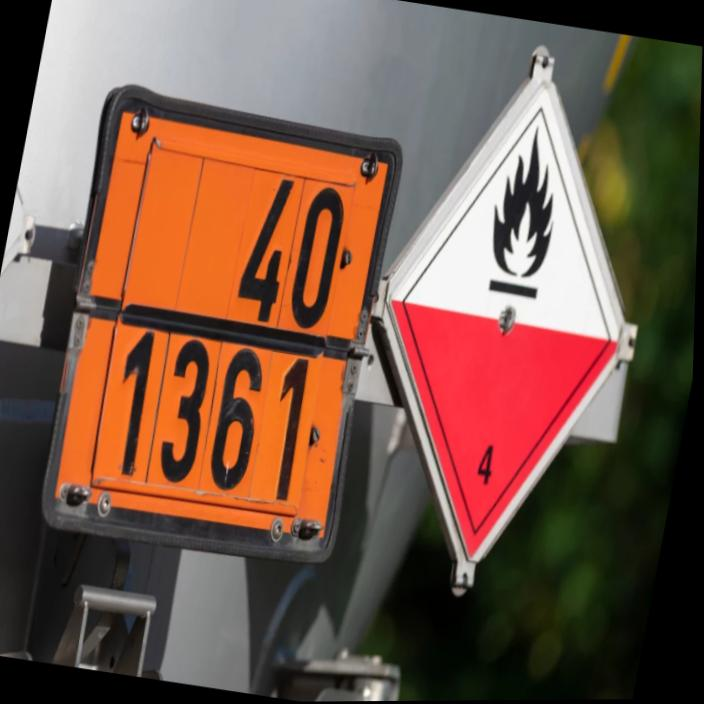charging station: (379, 46, 635, 588)
